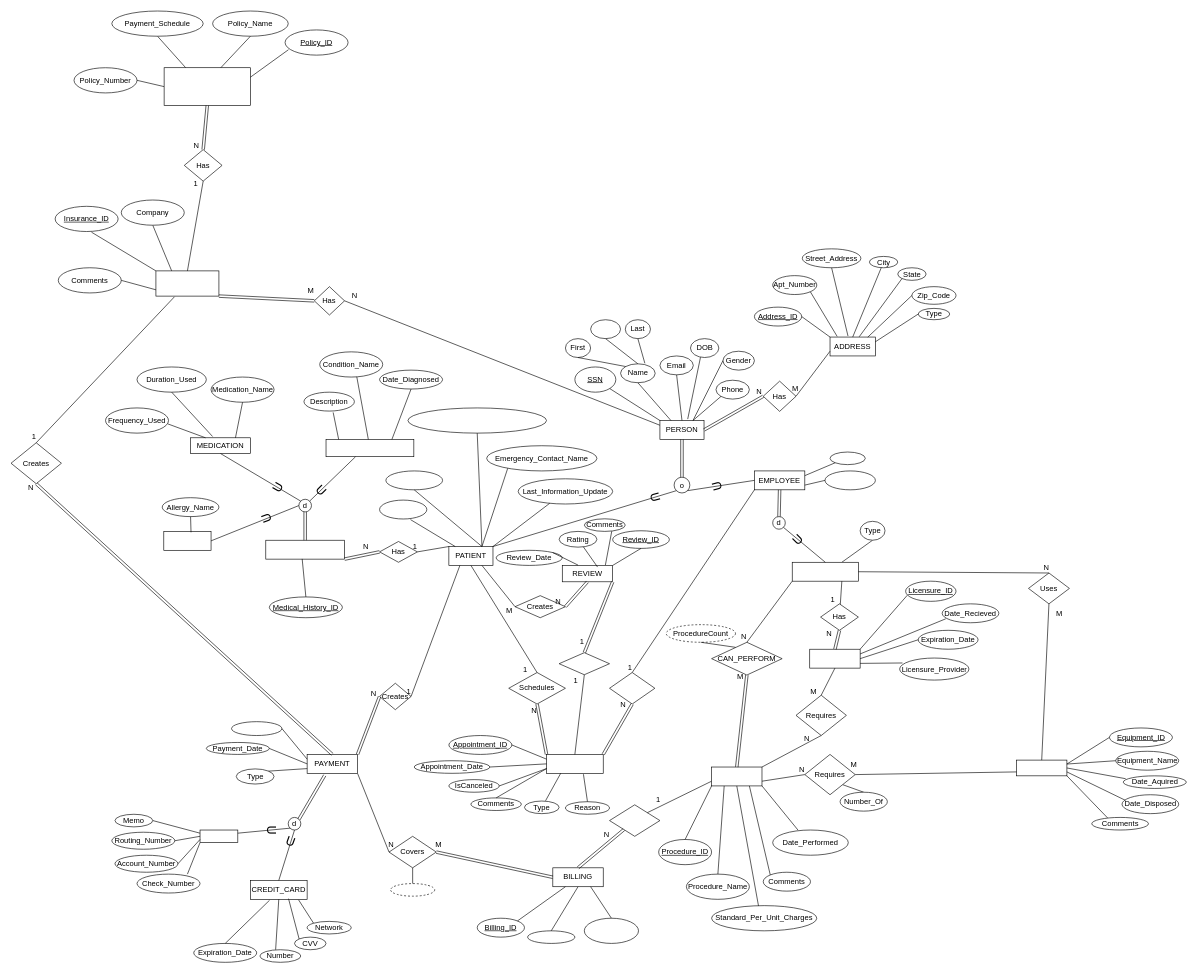
Image size: 1198x973. Some labels were removed from this diagram. Here are the shapes that lost their labels. From the top down, the centre of each, then its label:
At pixel 206 86: "INSURANCE_POLICY".
At pixel 187 283: "INSURANCE".
At pixel 605 329: "Middle".
At pixel 477 420: "Emergency_Contact_Phone_Number".
At pixel 369 448: "MEDICAL_CONDITION".
At pixel 847 458: "Salary".
At pixel 414 480: "Signed_HIPAA".
At pixel 849 480: "Date_Hired".
At pixel 403 509: "Last_XRay".
At pixel 187 540: "ALLERGY".
At pixel 305 549: "MEDICAL_HISTORY".
At pixel 825 571: "PRACTITIONER".
At pixel 584 663: "About".
At pixel 834 658: "LICENSURE".
At pixel 632 688: "Confirms".
At pixel 256 728: "Payment_ID".
At pixel 574 763: "APPOINTMENT".
At pixel 736 776: "PROCEDURE".
At pixel 1041 767: "EQUIPMENT".
At pixel 218 836: "CHECK".
At pixel 634 820: "Receives".
At pixel 412 889: "Amount".
At pixel 551 936: "Billing_Date".
At pixel 611 930: "Invoice_Name".
